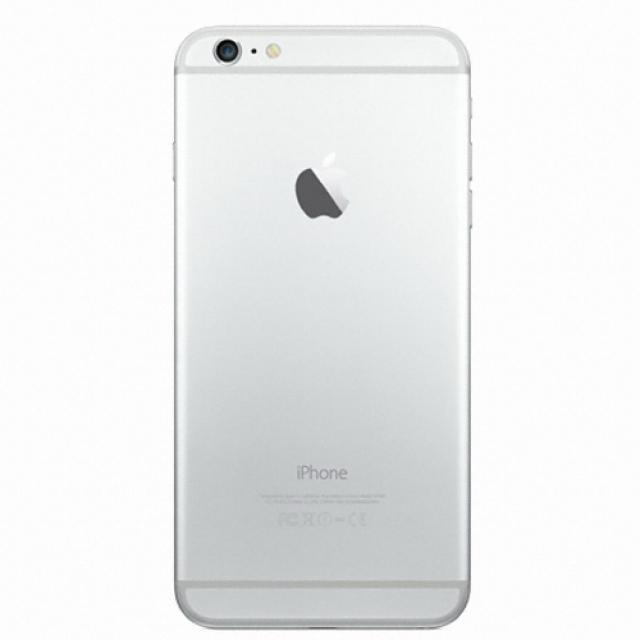phone: (173, 23, 472, 630)
